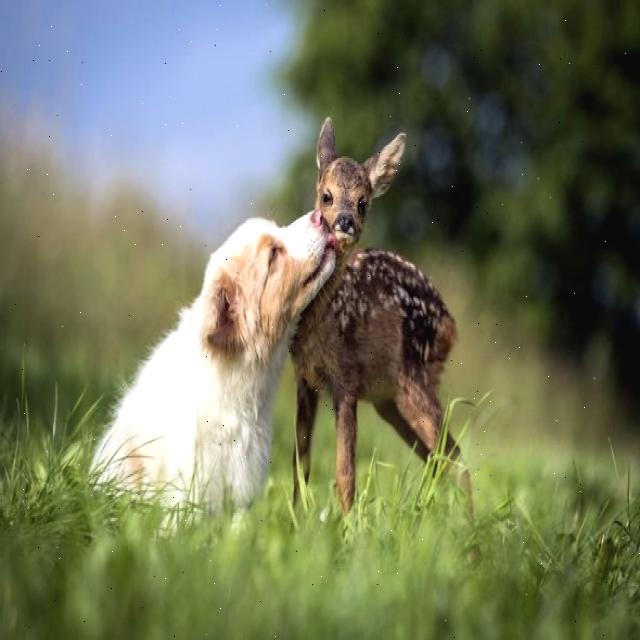deer: (312, 110, 420, 259)
